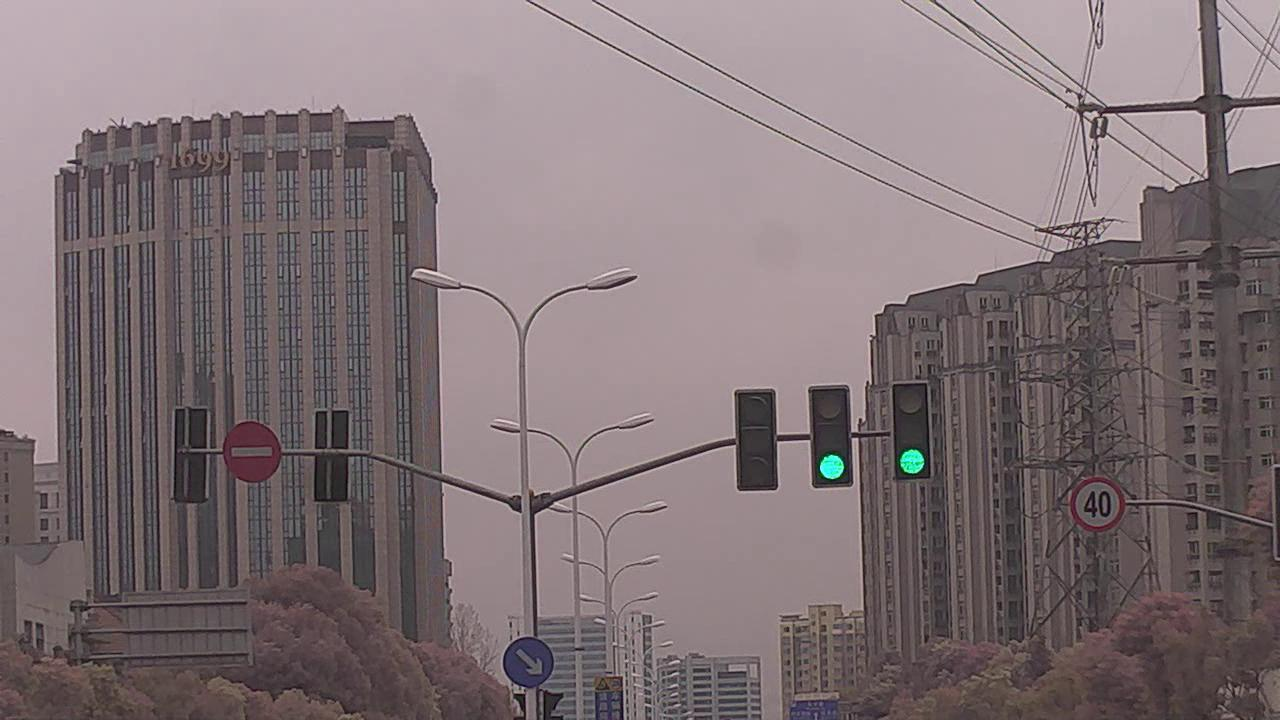traffic_light: (809, 384, 857, 490), (733, 389, 780, 491), (889, 379, 934, 481)
